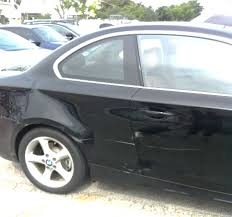Dent: (41, 91, 90, 126), (104, 105, 150, 123)
Scratch: (108, 137, 198, 155)
